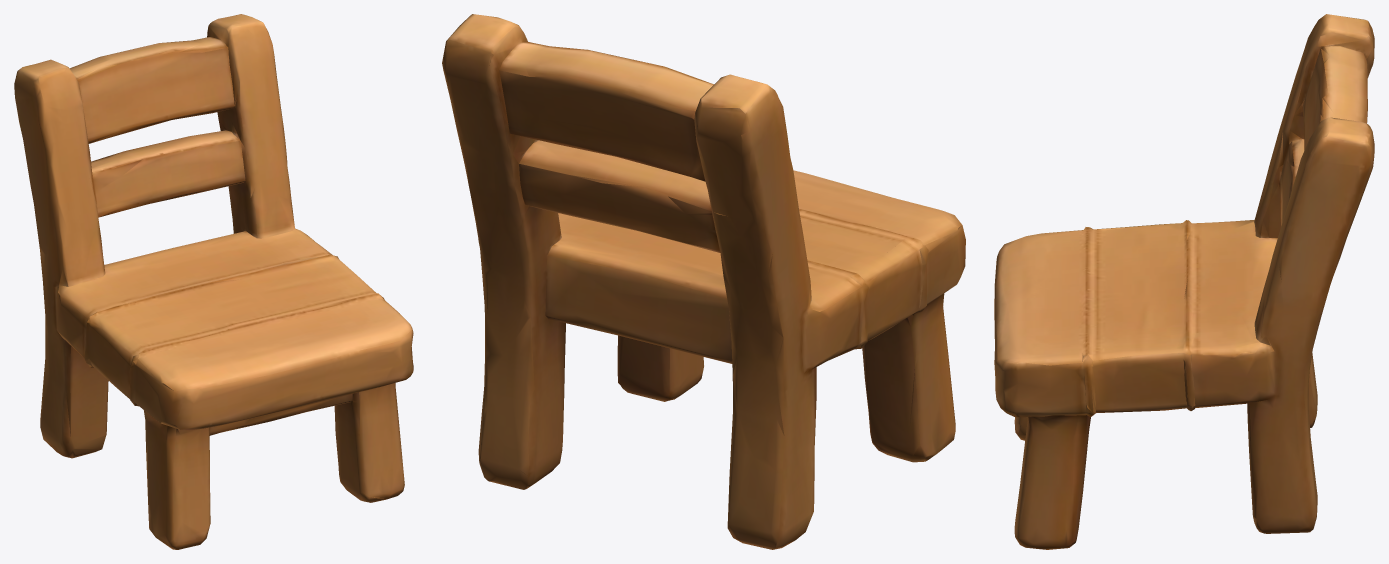
The model's file is chair09.glb.
3 views of the same model, side by side, from view 1: azimuth 30°, elevation 25°; view 2: azimuth 150°, elevation 25°; view 3: azimuth 270°, elevation 25° (orthographic). The views are drawn at different scales.
Bounding box in the file's own units: 0.1579 × 0.2237 × 0.1848.
Materials: 1 (1 with a texture image).
